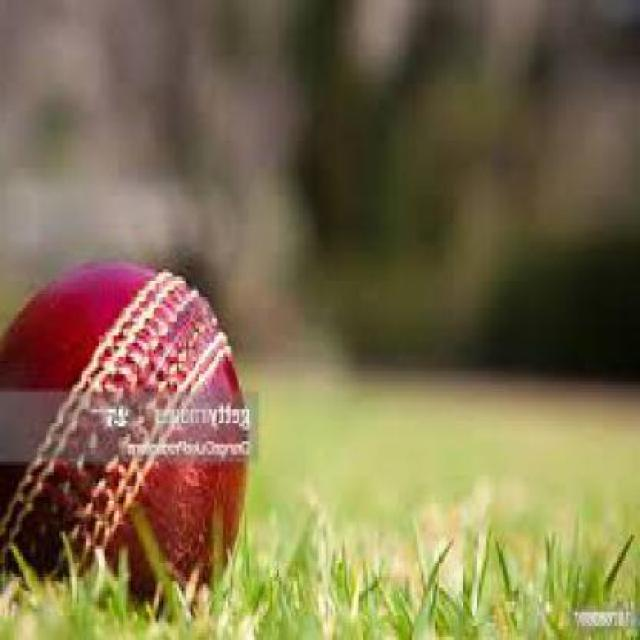ball: (0, 228, 286, 599)
